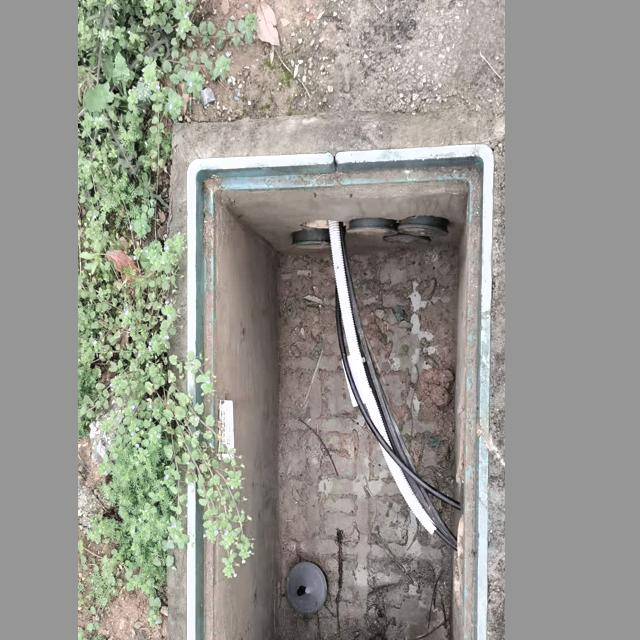lose: (187, 141, 495, 640)
